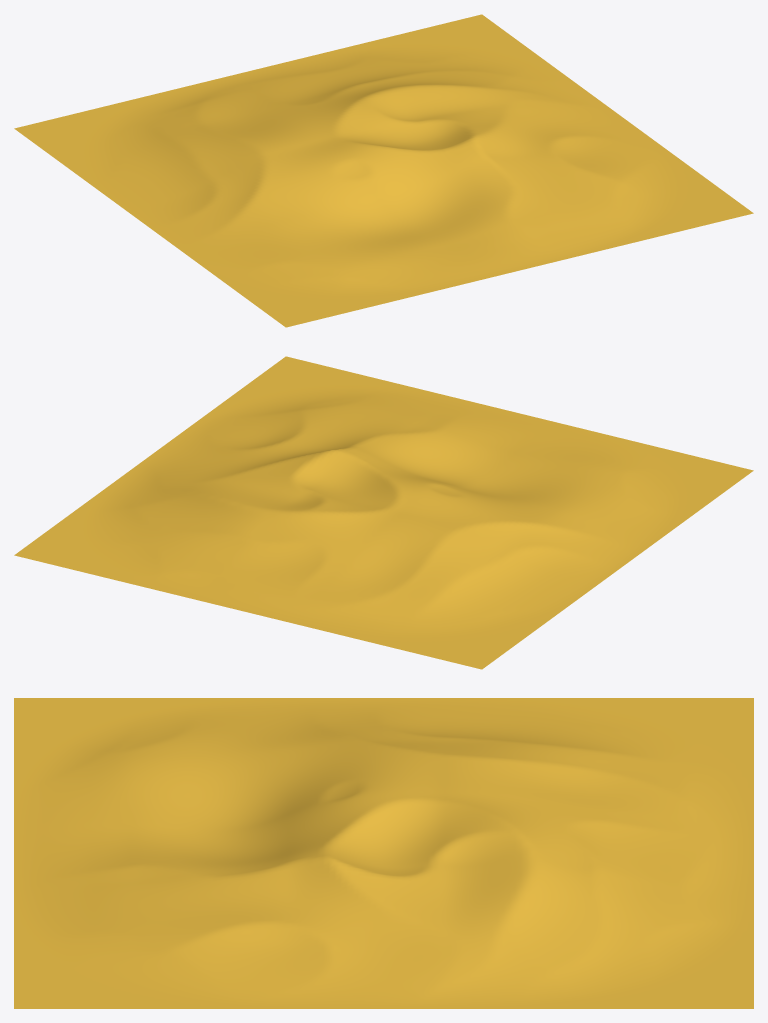
The model's file is LANDSCAPE01.fbx.
3 views of the same model, one above another, from view 1: azimuth 30°, elevation 25°; view 2: azimuth 150°, elevation 25°; view 3: azimuth 270°, elevation 25° (orthographic). The views are drawn at different scales.
Visible parts, largest first — view 1: Landscape01; view 2: Landscape01; view 3: Landscape01.
Part boxes in pixels (left/top/right/bottom): Landscape01: left=14, top=14, right=753, bottom=327; Landscape01: left=14, top=356, right=753, bottom=669; Landscape01: left=14, top=698, right=753, bottom=1008.
Size of the model in its own units: 2019 by 136 by 2032.
